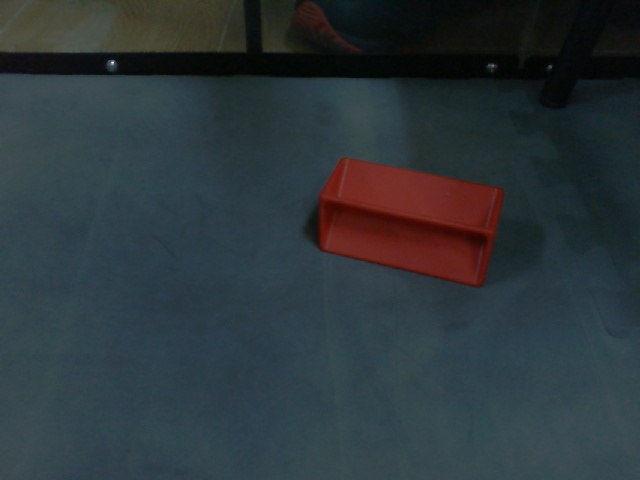RedSample: (313, 155, 504, 290)
